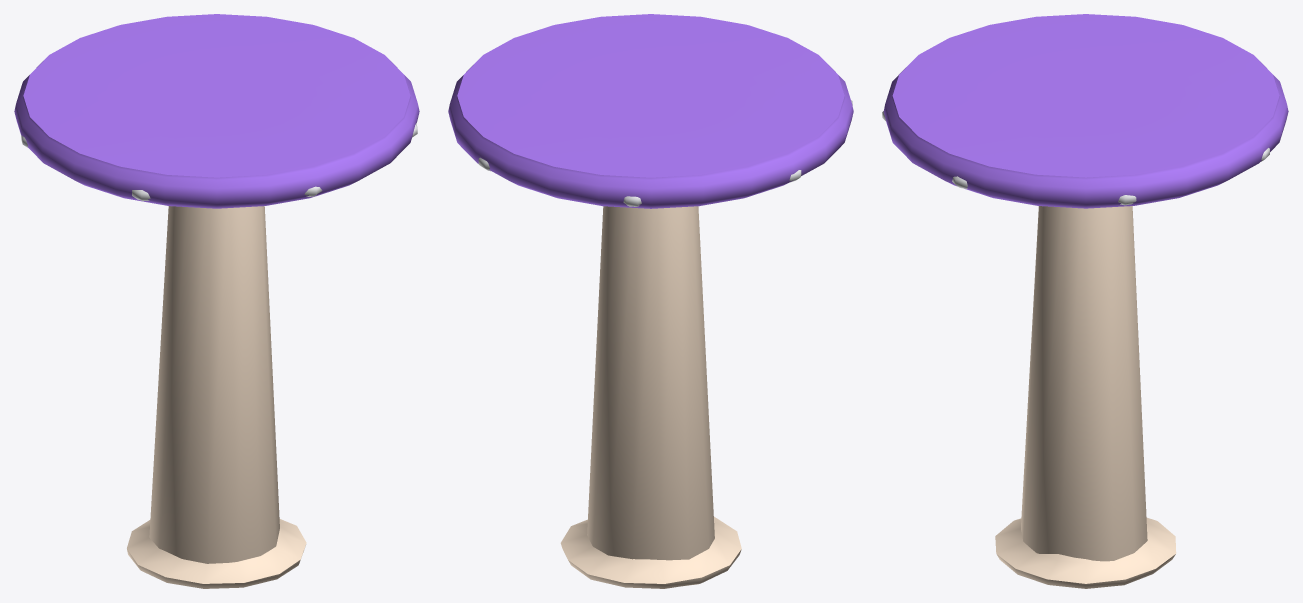
Rendered from HongoPlataformaAlto.fbx.
3 renders of one model, left to right at view 1: azimuth 30°, elevation 25°; view 2: azimuth 150°, elevation 25°; view 3: azimuth 270°, elevation 25°, orthographic.
Parts seen in each view (by area): view 1: HongoPlataformaAlto_Sombrero, HongoPlataformaAlto_Pie; view 2: HongoPlataformaAlto_Sombrero, HongoPlataformaAlto_Pie; view 3: HongoPlataformaAlto_Sombrero, HongoPlataformaAlto_Pie.
Boxes of the visible parts, <box> form: HongoPlataformaAlto_Sombrero: <box>14,14,419,208</box>; HongoPlataformaAlto_Pie: <box>127,206,306,588</box>; HongoPlataformaAlto_Sombrero: <box>448,14,853,208</box>; HongoPlataformaAlto_Pie: <box>560,206,741,588</box>; HongoPlataformaAlto_Sombrero: <box>883,14,1288,208</box>; HongoPlataformaAlto_Pie: <box>995,206,1176,588</box>.
Size of the model in its own units: 8 by 10 by 8.02.
